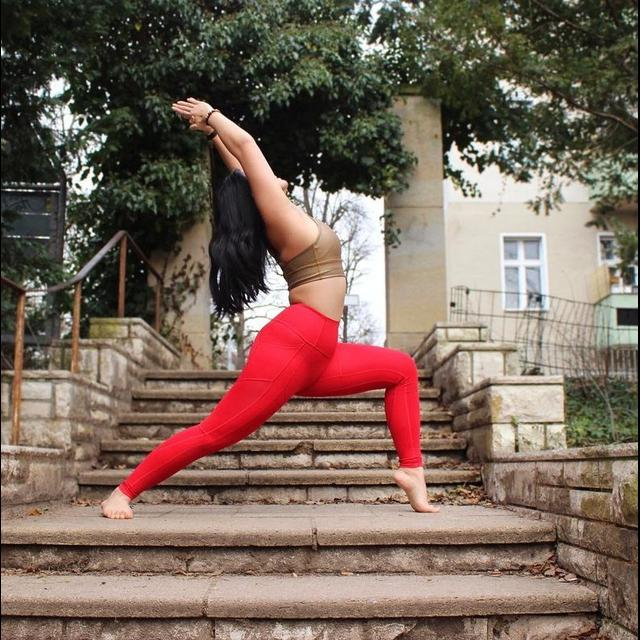Warrior_I: (93, 70, 446, 525)
